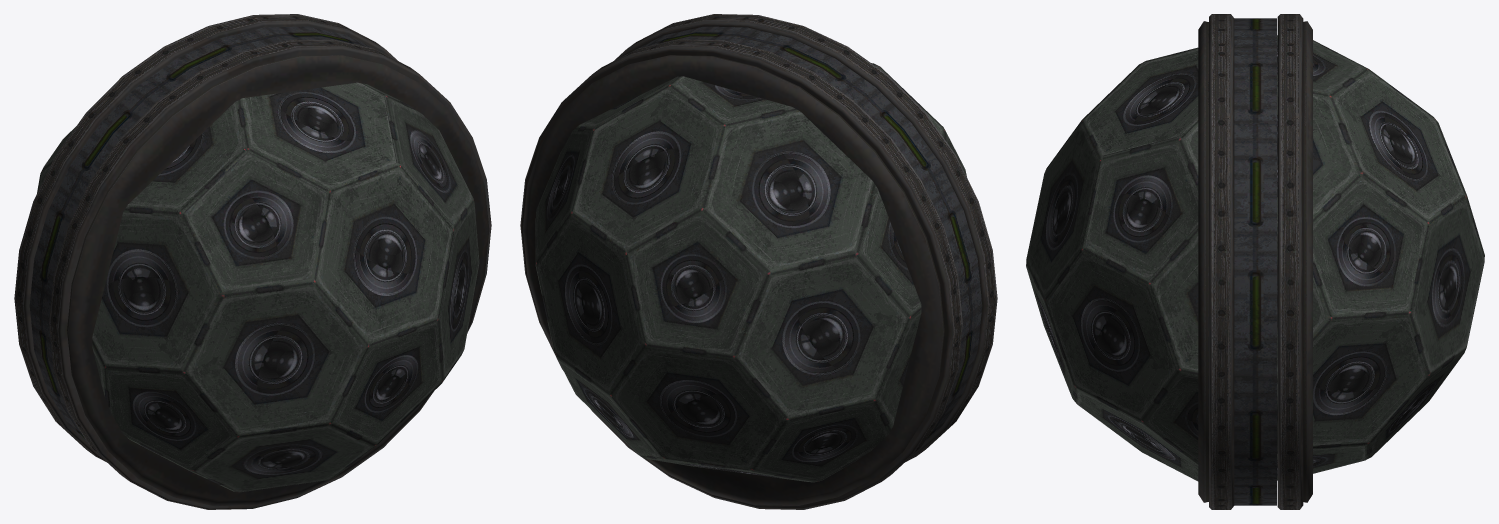
Rendered from t6_wpn_motion_sensor_view_LOD0.obj.
3 views of the same model, side by side, from view 1: azimuth 30°, elevation 25°; view 2: azimuth 150°, elevation 25°; view 3: azimuth 270°, elevation 25° (orthographic).
Visible parts, largest first — view 1: mtl_t6_wpn_motion_sensor; view 2: mtl_t6_wpn_motion_sensor; view 3: mtl_t6_wpn_motion_sensor.
Part boxes in pixels (x1,y1,x2,y2): mtl_t6_wpn_motion_sensor: (14, 14, 491, 509); mtl_t6_wpn_motion_sensor: (520, 14, 997, 509); mtl_t6_wpn_motion_sensor: (1026, 14, 1484, 509).
Size of the model in its own units: 12.45 by 12.38 by 11.47.
